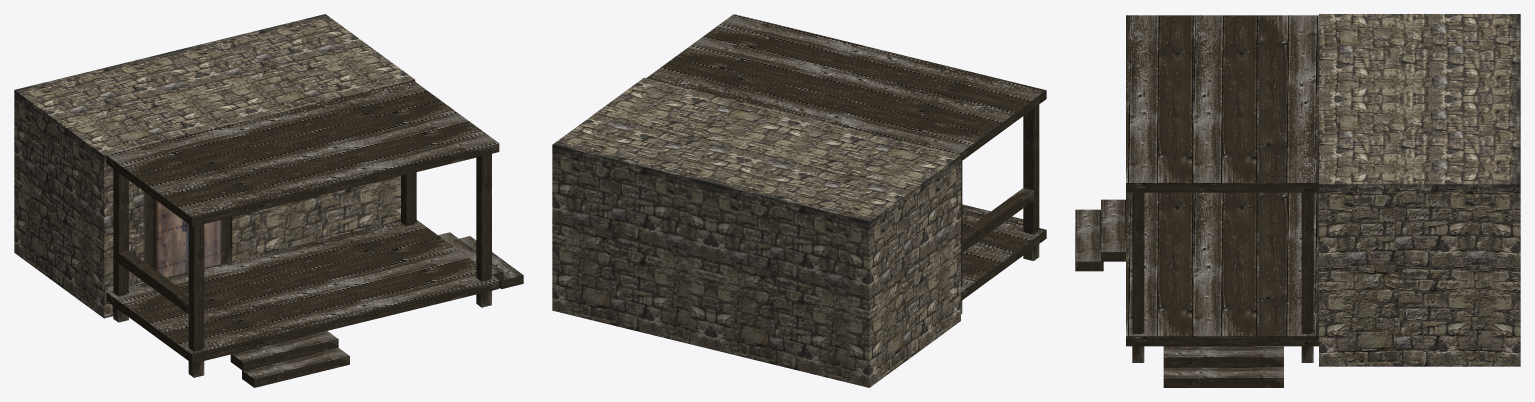
The model's file is WallBase05.FBX.
3 renders of one model, left to right at view 1: azimuth 30°, elevation 25°; view 2: azimuth 150°, elevation 25°; view 3: azimuth 270°, elevation 25°, orthographic. The views are drawn at different scales.
Parts seen in each view (by area): view 1: WallBase05; view 2: WallBase05; view 3: WallBase05.
Boxes of the visible parts, x1,y1,x2,y2 form: WallBase05: [14, 14, 523, 387]; WallBase05: [552, 14, 1046, 387]; WallBase05: [1075, 14, 1520, 387].
Size of the model in its own units: 788 by 350 by 774.
